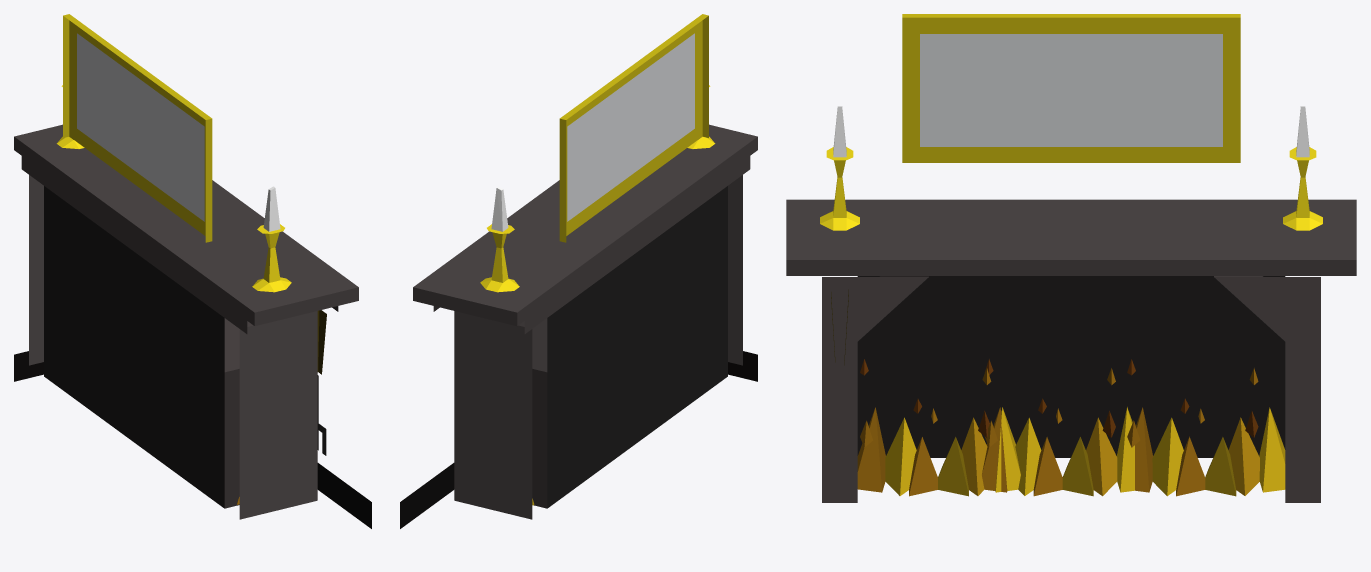
File: obj_fireplace_3_0.obj
3 views of the same model, side by side, from view 1: azimuth 30°, elevation 25°; view 2: azimuth 150°, elevation 25°; view 3: azimuth 270°, elevation 25° (orthographic). The views are drawn at different scales.
Size of the model in its own units: 0.5625 by 1.84 by 2.
